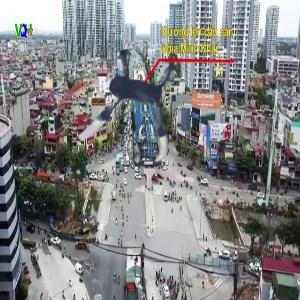drone: (62, 34, 200, 172)
